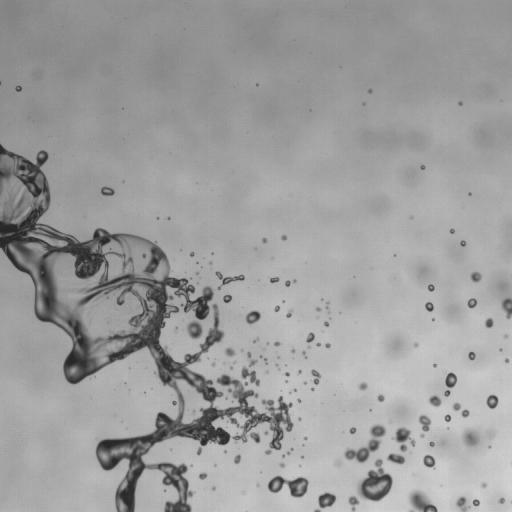droplet: (407, 489, 437, 511), (391, 425, 415, 452), (313, 491, 336, 511), (461, 428, 479, 446), (245, 310, 261, 325), (386, 453, 405, 465), (455, 496, 470, 511), (422, 454, 435, 469), (486, 394, 498, 409), (310, 369, 321, 385), (427, 395, 441, 407), (305, 332, 315, 348), (100, 186, 114, 195), (470, 271, 481, 282), (8, 175, 19, 186), (58, 223, 69, 234), (81, 230, 92, 241), (268, 233, 279, 244), (169, 267, 180, 278), (208, 277, 219, 288), (223, 282, 234, 293), (211, 292, 222, 303), (62, 339, 73, 350), (210, 341, 221, 352), (139, 345, 150, 356), (264, 345, 275, 356), (293, 356, 304, 367), (187, 361, 198, 372), (253, 363, 264, 374), (229, 368, 240, 379), (297, 386, 308, 397), (366, 386, 377, 397), (259, 388, 270, 399), (440, 397, 451, 408), (440, 401, 451, 412), (254, 403, 265, 414), (424, 404, 435, 415), (461, 417, 472, 428), (256, 421, 267, 432), (144, 423, 155, 434), (410, 423, 421, 434), (385, 426, 396, 437), (261, 432, 272, 443), (477, 433, 488, 444), (170, 434, 181, 445), (378, 434, 389, 445), (453, 434, 464, 445), (358, 436, 369, 447), (160, 437, 171, 448), (415, 437, 426, 448), (206, 439, 217, 450), (389, 442, 400, 453), (375, 447, 386, 458), (118, 458, 129, 469), (363, 459, 374, 470), (382, 461, 393, 472), (283, 470, 294, 481), (135, 476, 146, 487), (349, 485, 360, 496), (132, 488, 143, 499), (306, 488, 317, 499), (168, 490, 179, 501), (426, 493, 437, 504), (334, 495, 345, 506), (358, 496, 369, 507), (402, 500, 413, 511), (224, 347, 236, 357), (466, 298, 477, 308), (484, 317, 493, 328), (487, 428, 496, 439), (222, 293, 231, 303), (333, 458, 343, 467), (233, 453, 241, 464), (425, 302, 434, 311), (452, 402, 461, 411), (46, 179, 55, 188), (452, 232, 461, 241), (221, 284, 230, 293), (425, 292, 434, 301), (217, 301, 226, 310), (318, 311, 327, 320), (124, 353, 133, 362), (163, 384, 172, 393), (246, 396, 255, 405), (168, 410, 177, 419), (451, 410, 460, 419), (373, 416, 382, 425), (116, 430, 125, 439), (466, 444, 475, 453), (368, 450, 377, 459), (141, 454, 150, 463), (155, 469, 164, 478), (286, 308, 294, 318), (358, 382, 367, 390), (269, 276, 279, 283), (505, 490, 511, 501), (466, 505, 477, 511), (496, 505, 507, 511), (461, 409, 469, 417), (377, 393, 384, 402), (198, 472, 207, 479), (468, 352, 475, 360), (444, 414, 451, 422), (349, 427, 357, 434), (472, 499, 479, 507), (0, 193, 5, 204), (427, 284, 434, 291), (273, 305, 280, 312), (252, 336, 259, 343), (3, 143, 10, 150), (39, 164, 46, 171), (19, 183, 26, 190), (47, 184, 54, 191), (48, 187, 55, 194), (1, 190, 8, 197), (36, 216, 43, 223), (107, 227, 114, 234), (86, 232, 93, 239), (160, 245, 167, 252), (3, 257, 10, 264), (202, 263, 209, 270), (277, 279, 284, 286), (210, 284, 217, 291), (189, 293, 196, 300), (206, 299, 213, 306), (318, 301, 325, 308), (495, 301, 502, 308), (279, 307, 286, 314), (499, 309, 506, 316), (44, 320, 51, 327), (217, 323, 224, 330), (258, 337, 265, 344), (232, 345, 239, 352), (294, 350, 301, 357), (500, 351, 507, 358), (199, 352, 206, 359), (226, 355, 233, 362), (113, 358, 120, 365), (256, 358, 263, 365), (242, 359, 249, 366), (267, 362, 274, 369), (150, 363, 157, 370), (289, 369, 296, 376), (203, 372, 210, 379), (83, 375, 90, 382), (238, 376, 245, 383), (154, 377, 161, 384), (247, 382, 254, 389), (286, 382, 293, 389), (352, 384, 359, 391), (437, 392, 444, 399), (282, 396, 289, 403), (272, 400, 279, 407), (289, 415, 296, 422), (267, 430, 274, 437), (414, 436, 421, 443), (247, 437, 254, 444), (193, 439, 200, 446), (403, 439, 410, 446), (153, 441, 160, 448), (218, 443, 225, 450), (352, 444, 359, 451), (279, 446, 286, 453), (338, 452, 345, 459), (157, 456, 164, 463), (350, 457, 357, 464), (173, 459, 180, 466), (141, 468, 148, 475), (390, 474, 397, 481), (167, 483, 174, 490), (281, 483, 288, 490), (109, 488, 116, 495), (387, 488, 394, 495), (451, 494, 458, 501), (291, 495, 298, 502), (380, 495, 387, 502), (185, 497, 192, 504), (366, 498, 373, 505), (465, 498, 472, 505), (312, 501, 319, 508), (158, 503, 165, 510), (497, 497, 505, 503), (273, 341, 282, 346), (132, 506, 141, 511), (321, 506, 330, 511), (452, 506, 461, 511), (15, 85, 22, 91), (281, 234, 287, 241), (323, 320, 329, 327), (278, 462, 285, 468), (460, 240, 466, 246), (324, 342, 330, 348), (428, 441, 434, 447), (481, 482, 487, 488), (0, 248, 4, 257), (283, 372, 290, 377), (420, 164, 425, 170), (262, 237, 267, 243), (189, 251, 194, 257), (315, 306, 321, 311), (315, 342, 321, 347), (413, 342, 418, 348), (290, 347, 295, 353), (262, 430, 268, 435), (174, 326, 178, 333), (507, 292, 511, 299), (189, 507, 196, 511), (449, 228, 454, 233), (503, 333, 508, 338), (504, 358, 509, 363), (296, 398, 301, 403), (240, 489, 245, 494), (44, 147, 49, 152), (13, 149, 18, 154), (47, 153, 52, 158), (31, 159, 36, 164), (108, 183, 113, 188), (106, 194, 111, 199), (49, 195, 54, 200), (13, 198, 18, 203), (126, 229, 131, 234), (279, 230, 284, 235), (136, 231, 141, 236), (144, 234, 149, 239), (276, 235, 281, 240), (266, 237, 271, 242), (257, 238, 262, 243), (465, 240, 470, 245), (185, 249, 190, 254), (191, 255, 196, 260), (208, 255, 213, 260), (471, 267, 476, 272), (23, 272, 28, 277), (229, 272, 234, 277), (270, 272, 275, 277), (243, 273, 248, 278), (175, 274, 180, 279), (467, 277, 472, 282), (187, 279, 192, 284), (235, 279, 240, 284), (229, 280, 234, 285), (29, 294, 34, 299), (278, 302, 283, 307), (270, 303, 275, 308), (432, 303, 437, 308), (463, 303, 468, 308), (252, 306, 257, 311), (320, 306, 325, 311), (432, 306, 437, 311), (471, 306, 476, 311), (246, 307, 251, 312), (314, 310, 319, 315), (31, 314, 36, 319), (217, 315, 222, 320), (257, 317, 262, 322), (241, 318, 246, 323), (480, 321, 485, 326), (491, 322, 496, 327), (487, 326, 492, 331), (57, 327, 62, 332), (277, 337, 282, 342), (414, 337, 419, 342), (311, 338, 316, 343), (269, 339, 274, 344), (320, 341, 325, 346), (408, 342, 413, 347), (208, 345, 213, 350), (274, 345, 279, 350), (416, 345, 421, 350), (243, 347, 248, 352), (288, 352, 293, 357), (250, 354, 255, 359), (474, 354, 479, 359), (275, 358, 280, 363), (281, 367, 286, 372), (285, 367, 290, 372), (315, 367, 320, 372), (452, 369, 457, 374), (94, 370, 99, 375), (216, 372, 221, 377), (254, 373, 259, 378), (441, 374, 446, 379), (318, 377, 323, 382), (358, 378, 363, 383), (65, 381, 70, 386), (310, 382, 315, 387), (366, 383, 371, 388), (243, 385, 248, 390), (443, 385, 448, 390), (448, 386, 453, 391), (362, 388, 367, 393), (487, 390, 492, 395), (429, 391, 434, 396), (493, 391, 498, 396), (484, 392, 489, 397), (372, 394, 377, 399), (383, 394, 388, 399), (264, 395, 269, 400), (497, 397, 502, 402), (456, 398, 461, 403), (481, 398, 486, 403), (291, 399, 296, 404), (376, 400, 381, 405), (380, 400, 385, 405), (496, 401, 501, 406), (174, 403, 179, 408), (459, 405, 464, 410), (484, 405, 489, 410), (492, 406, 497, 411), (287, 407, 292, 412), (457, 408, 462, 413), (466, 414, 471, 419), (462, 416, 467, 421), (445, 421, 450, 426), (417, 422, 422, 427), (427, 423, 432, 428), (291, 425, 296, 430), (344, 428, 349, 433), (282, 429, 287, 434), (423, 430, 428, 435), (353, 431, 358, 436), (408, 432, 413, 437), (228, 437, 233, 442), (237, 438, 242, 443), (279, 438, 284, 443), (93, 440, 98, 445), (396, 441, 401, 446), (270, 447, 275, 452), (429, 451, 434, 456), (91, 452, 96, 457), (266, 453, 271, 458), (229, 456, 234, 461), (239, 456, 244, 461), (433, 456, 438, 461), (279, 457, 284, 462), (298, 458, 303, 463), (418, 458, 423, 463), (184, 461, 189, 466), (231, 462, 236, 467), (433, 462, 438, 467), (97, 465, 102, 470), (372, 466, 377, 471), (427, 466, 432, 471), (199, 468, 204, 473), (160, 472, 165, 477), (181, 472, 186, 477), (269, 473, 274, 478), (202, 477, 207, 482), (265, 477, 270, 482), (481, 477, 486, 482), (476, 481, 481, 486), (390, 482, 395, 487), (306, 484, 311, 489), (187, 485, 192, 490), (319, 489, 324, 494), (328, 489, 333, 494), (270, 491, 275, 496), (302, 493, 307, 498), (495, 494, 500, 499), (313, 496, 318, 501), (503, 499, 508, 504), (432, 501, 437, 506), (331, 502, 336, 507), (346, 503, 351, 508), (353, 503, 358, 508), (435, 504, 440, 509), (297, 369, 301, 375), (0, 206, 3, 213), (368, 88, 372, 93), (165, 216, 170, 220), (264, 369, 269, 373), (302, 436, 307, 440), (256, 482, 260, 487), (458, 101, 462, 105), (409, 215, 413, 219), (208, 261, 212, 265), (232, 360, 236, 364), (432, 363, 436, 367), (310, 387, 314, 391), (223, 449, 227, 453), (211, 486, 215, 490), (240, 348, 243, 353), (508, 333, 511, 338), (508, 357, 511, 362), (111, 508, 116, 511), (468, 192, 471, 196), (156, 216, 159, 220), (432, 317, 435, 321), (266, 341, 269, 345), (277, 355, 280, 359), (284, 380, 288, 383), (303, 381, 307, 384), (298, 417, 301, 421), (300, 455, 304, 458), (412, 472, 415, 476), (256, 83, 259, 86), (362, 102, 365, 105), (254, 247, 257, 250), (320, 298, 323, 301), (282, 300, 285, 303), (328, 317, 331, 320), (499, 348, 502, 351), (206, 356, 209, 359), (369, 408, 372, 411), (446, 426, 449, 429), (488, 445, 491, 448), (213, 463, 216, 466), (298, 464, 301, 467), (163, 489, 166, 492), (256, 80, 259, 83), (0, 81, 3, 84), (252, 82, 255, 85), (19, 83, 22, 86), (258, 83, 261, 86), (12, 84, 15, 87), (366, 86, 369, 89), (13, 89, 16, 92), (371, 89, 374, 92), (18, 90, 21, 93), (366, 92, 369, 95), (457, 98, 460, 101), (461, 100, 464, 103), (455, 103, 458, 106), (458, 105, 461, 108), (423, 162, 426, 165), (417, 166, 420, 169), (420, 169, 423, 172), (106, 184, 109, 187), (98, 188, 101, 191), (470, 190, 473, 193), (465, 191, 468, 194), (468, 195, 471, 198), (155, 213, 158, 216), (166, 213, 169, 216), (170, 216, 173, 219), (153, 217, 156, 220), (158, 217, 161, 220), (167, 219, 170, 222), (52, 225, 55, 228), (450, 225, 453, 228), (447, 227, 450, 230), (447, 231, 450, 234), (263, 234, 266, 237), (286, 236, 289, 239), (462, 237, 465, 240), (151, 239, 154, 242), (284, 239, 287, 242), (457, 239, 460, 242), (263, 242, 266, 245), (460, 245, 463, 248), (208, 249, 211, 252), (392, 250, 395, 253), (213, 251, 216, 254), (193, 252, 196, 255), (395, 252, 398, 255), (187, 255, 190, 258), (392, 256, 395, 259), (198, 260, 201, 263), (211, 260, 214, 263), (196, 263, 199, 266), (207, 264, 210, 267), (216, 268, 219, 271), (198, 272, 201, 275), (235, 273, 238, 276), (222, 274, 225, 277), (185, 276, 188, 279), (295, 277, 298, 280), (266, 278, 269, 281), (219, 279, 222, 282), (272, 281, 275, 284), (289, 282, 292, 285), (432, 283, 435, 286), (426, 289, 429, 292), (432, 289, 435, 292), (229, 292, 232, 295), (471, 295, 474, 298), (282, 296, 285, 299), (317, 296, 320, 299), (323, 298, 326, 301), (227, 301, 230, 304), (431, 301, 434, 304), (327, 303, 330, 306), (425, 309, 428, 312), (276, 310, 279, 313), (328, 313, 331, 316), (288, 316, 291, 319), (428, 318, 431, 321), (327, 320, 330, 323), (432, 320, 435, 323), (323, 325, 326, 328), (252, 336, 255, 339), (255, 340, 258, 343), (328, 340, 331, 343), (263, 343, 266, 346), (329, 345, 332, 348), (497, 345, 500, 348), (289, 346, 292, 349), (325, 347, 328, 350), (469, 348, 472, 351), (501, 348, 504, 351), (473, 350, 476, 353), (277, 352, 280, 355), (304, 352, 307, 355), (465, 352, 468, 355), (244, 354, 247, 357), (262, 354, 265, 357), (501, 357, 504, 360), (303, 358, 306, 361), (214, 359, 217, 362), (266, 359, 269, 362), (469, 359, 472, 362), (283, 360, 286, 363), (433, 360, 436, 363), (505, 362, 508, 365), (230, 363, 233, 366), (429, 363, 432, 366), (264, 364, 267, 367), (277, 364, 280, 367), (436, 364, 439, 367), (274, 366, 277, 369), (295, 369, 298, 372), (446, 370, 449, 373), (298, 373, 301, 376), (284, 375, 287, 378), (120, 381, 123, 384), (258, 381, 261, 384), (301, 383, 304, 386), (292, 385, 295, 388), (140, 389, 143, 392), (291, 390, 294, 393), (145, 391, 148, 394), (141, 393, 144, 396), (300, 398, 303, 401), (169, 402, 172, 405), (369, 405, 372, 408), (466, 407, 469, 410), (365, 408, 368, 411), (371, 408, 374, 411), (468, 411, 471, 414), (443, 412, 446, 415), (441, 417, 444, 420), (300, 418, 303, 421), (449, 418, 452, 421), (352, 424, 355, 427), (355, 428, 358, 431), (303, 433, 306, 436), (350, 433, 353, 436), (300, 435, 303, 438), (429, 438, 432, 441), (302, 439, 305, 442), (433, 440, 436, 443), (243, 441, 246, 444), (426, 441, 429, 444), (414, 442, 417, 445), (487, 442, 490, 445), (433, 444, 436, 447), (301, 446, 304, 449), (488, 447, 491, 450), (300, 452, 303, 455), (264, 453, 267, 456), (297, 455, 300, 458), (303, 455, 306, 458), (210, 462, 213, 465), (196, 472, 199, 475), (197, 477, 200, 480), (485, 485, 488, 488), (215, 486, 218, 489), (209, 489, 212, 492), (500, 494, 503, 497), (472, 496, 475, 499), (475, 496, 478, 499), (345, 497, 348, 500), (478, 499, 481, 502), (478, 502, 481, 505), (498, 502, 501, 505), (475, 505, 478, 508), (211, 252, 213, 255), (393, 254, 396, 256), (196, 261, 198, 264), (200, 265, 202, 268), (284, 364, 287, 366), (225, 396, 227, 399), (170, 448, 172, 451), (509, 316, 511, 319), (122, 180, 124, 182), (258, 279, 260, 281), (196, 282, 198, 284), (339, 312, 341, 314), (128, 367, 130, 369), (124, 382, 126, 384), (342, 431, 344, 433), (302, 444, 304, 446), (260, 471, 262, 473)
ligament: (344, 424, 387, 463), (267, 475, 309, 498), (443, 371, 457, 396), (418, 414, 432, 438), (501, 297, 511, 319), (281, 447, 293, 458), (285, 279, 297, 287), (259, 354, 268, 364), (325, 301, 330, 314), (195, 271, 201, 280), (210, 358, 216, 367), (288, 388, 297, 394), (302, 350, 307, 359), (275, 363, 280, 371), (260, 345, 265, 352), (229, 363, 233, 370), (144, 391, 146, 396), (0, 80, 1, 85), (510, 500, 511, 503)
